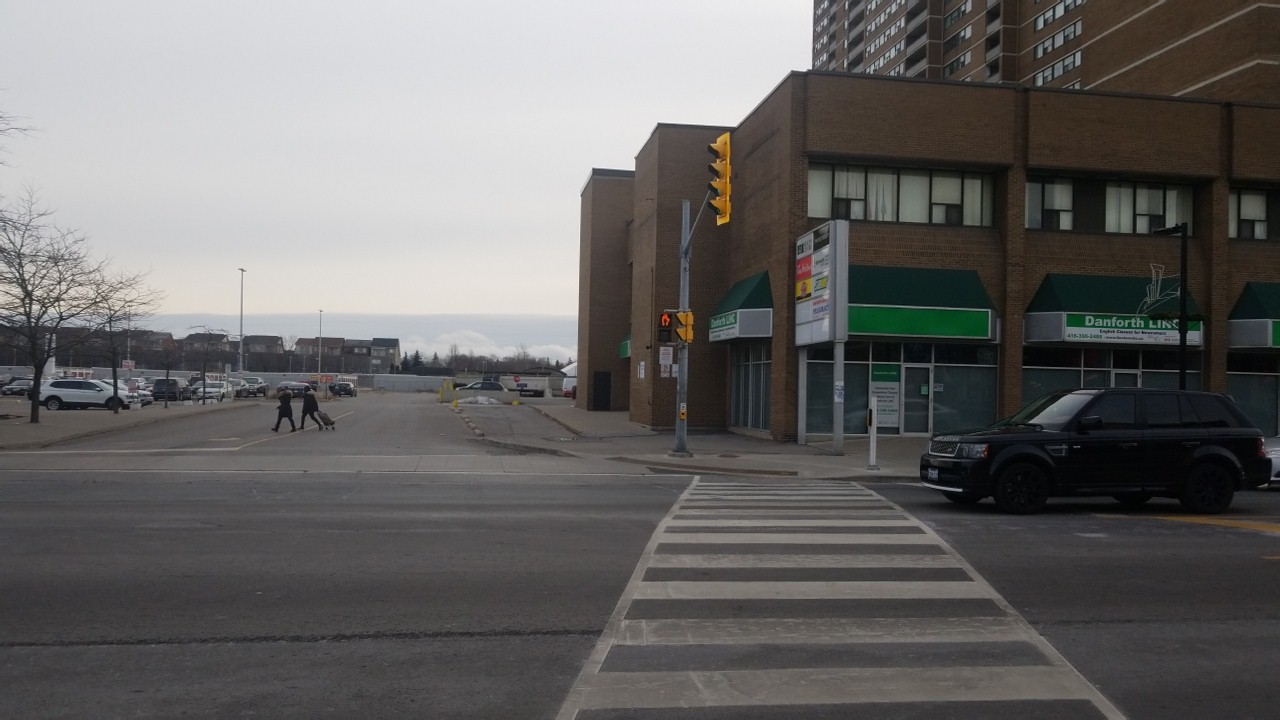light: (656, 311, 672, 343)
